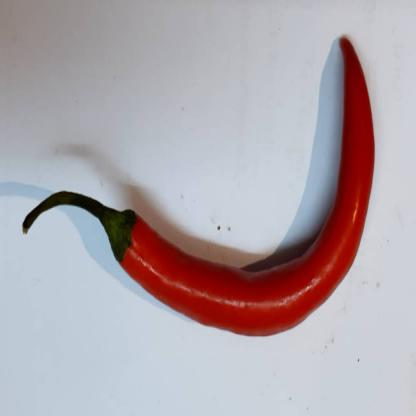chili: (22, 34, 376, 337)
